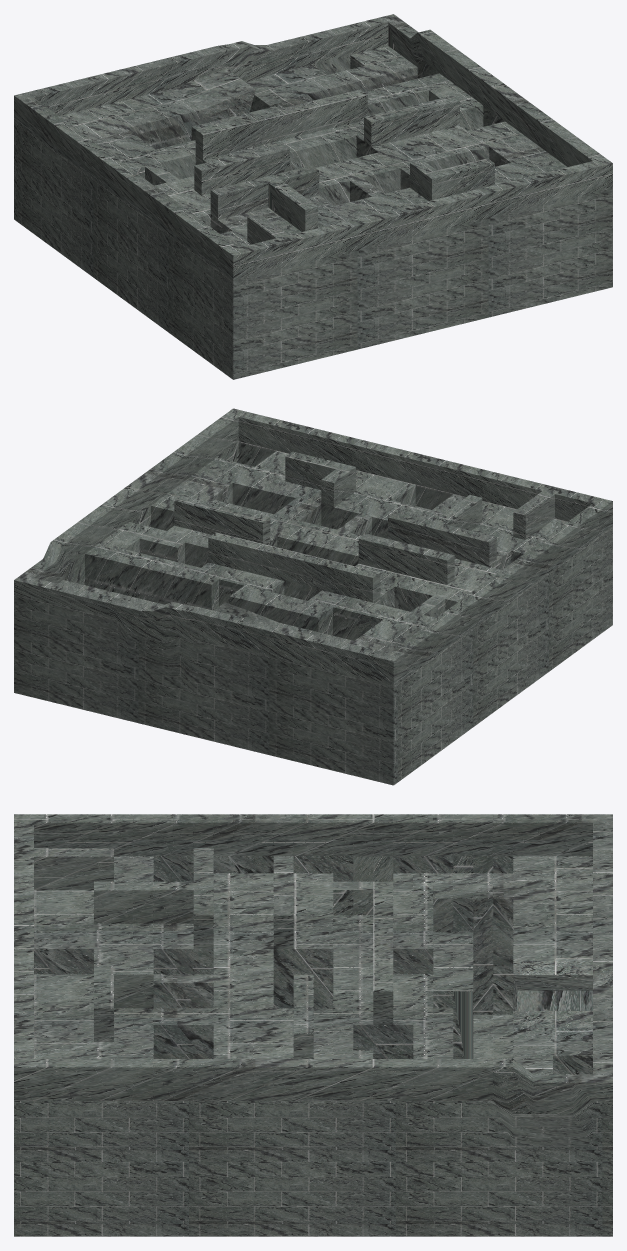
File: MazeMapFixed.obj
3 views of the same model, one above another, from view 1: azimuth 30°, elevation 25°; view 2: azimuth 150°, elevation 25°; view 3: azimuth 270°, elevation 25° (orthographic). The views are drawn at different scales.
Parts seen in each view (by area): view 1: MazeMap:pCube1; view 2: MazeMap:pCube1; view 3: MazeMap:pCube1.
Part boxes in pixels (x1,y1,x2,y2): MazeMap:pCube1: (14, 14, 612, 379); MazeMap:pCube1: (14, 408, 612, 785); MazeMap:pCube1: (14, 814, 612, 1236).
Bounding box in the file's own units: 32 × 9.99 × 32.
Materials: 1 (1 with a texture image).
